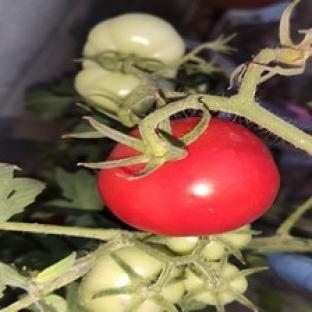Tomato: (98, 117, 279, 235), (76, 13, 185, 116), (80, 247, 185, 311), (76, 66, 139, 115), (165, 225, 252, 260), (184, 262, 247, 306)
